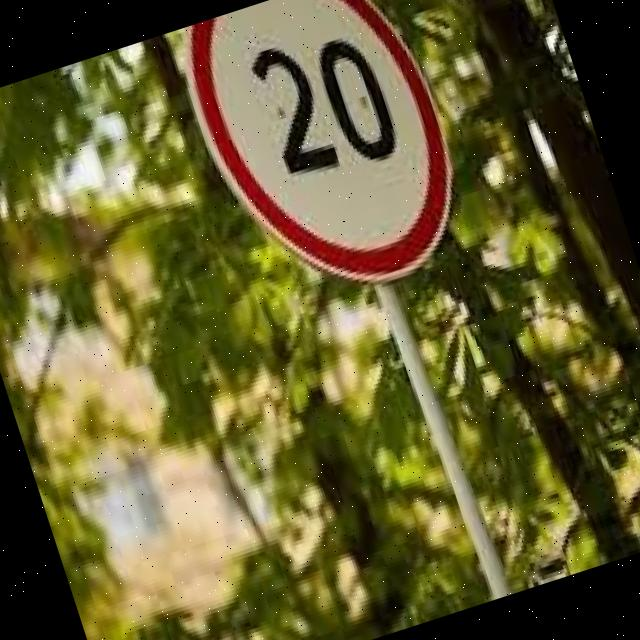speed_limit_20: (161, 0, 496, 331)
